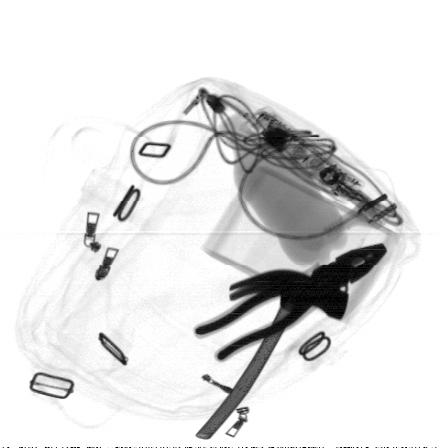Hammer: (195, 269, 350, 439)
Pliers: (193, 243, 388, 364)
